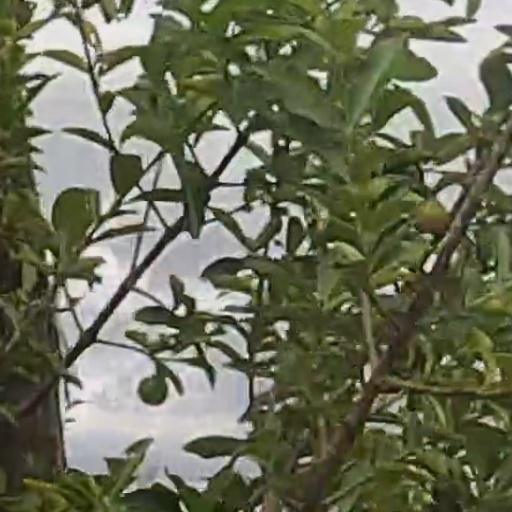acerola: (414, 202, 450, 234), (140, 377, 165, 406)
